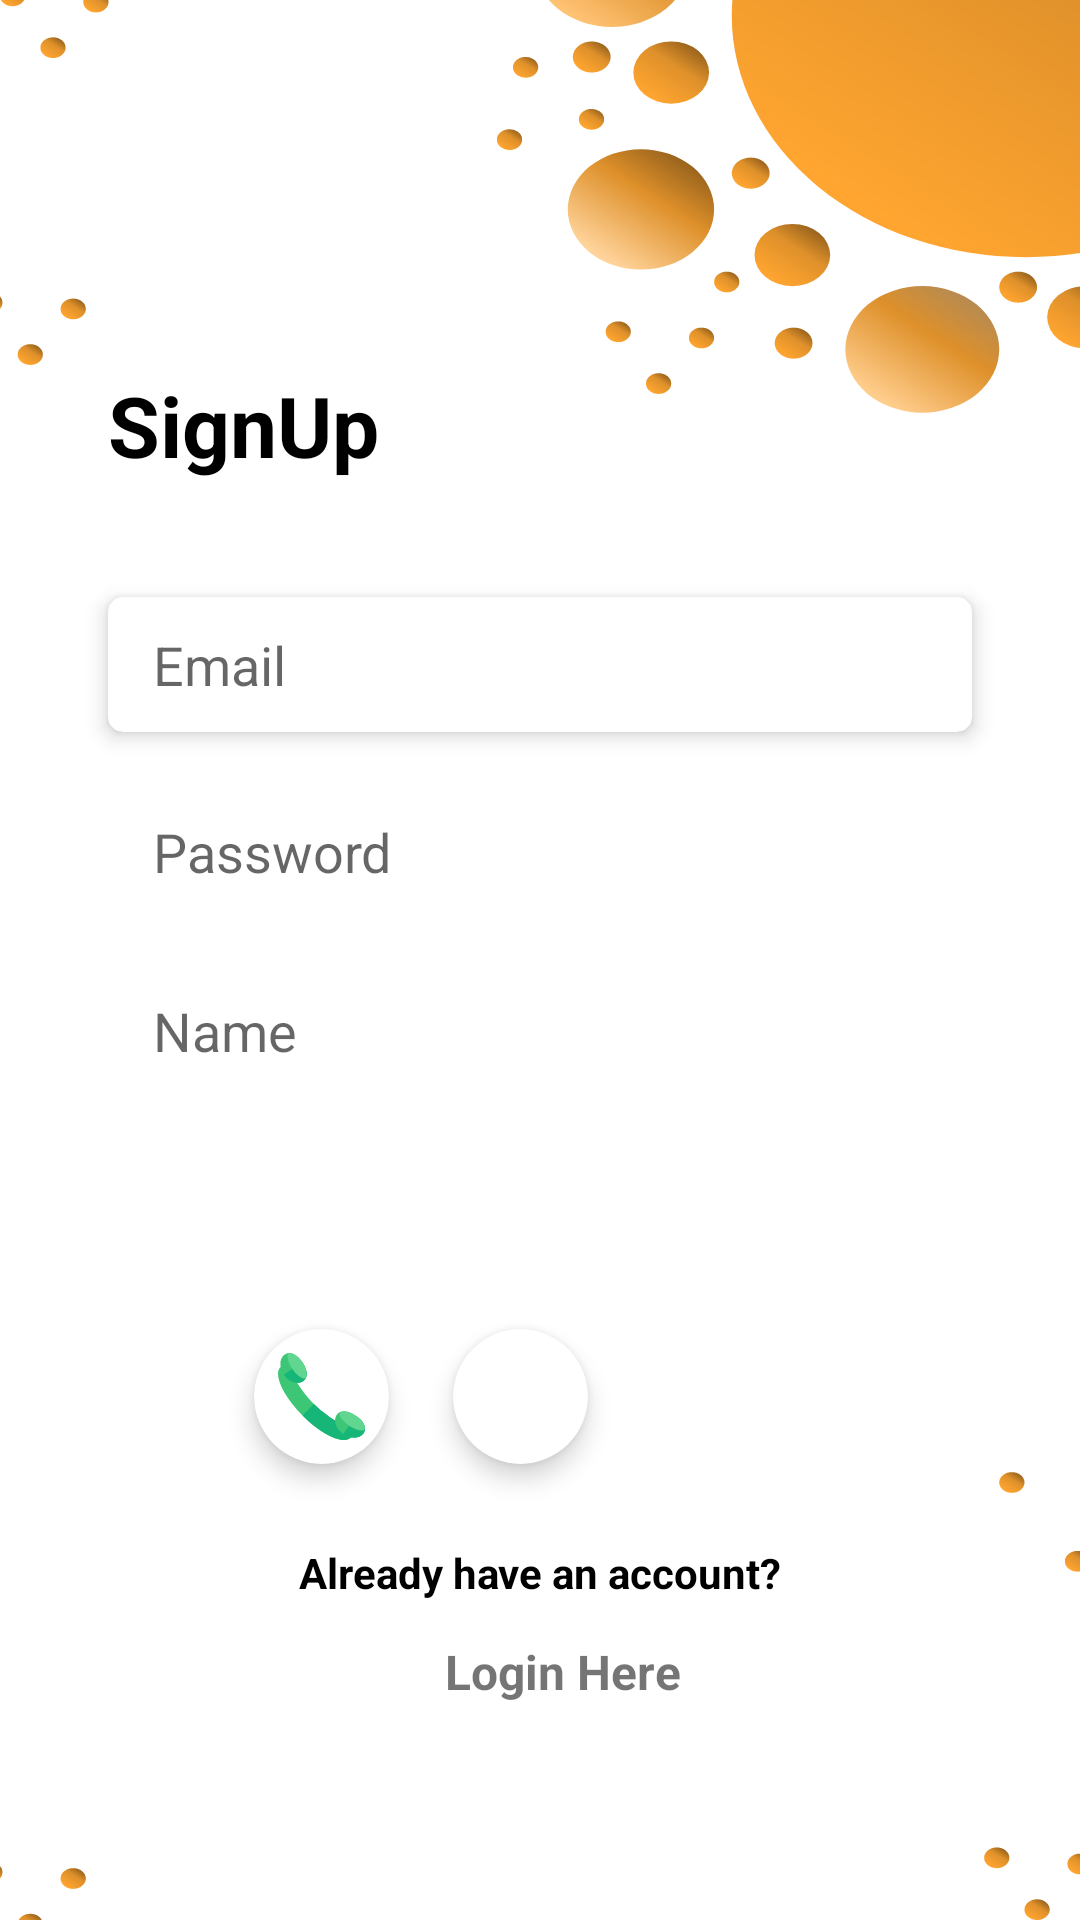

Screen size 1080×1920. Icon name, then its center in pixels as (x,y):
phone call: (332,1396)
